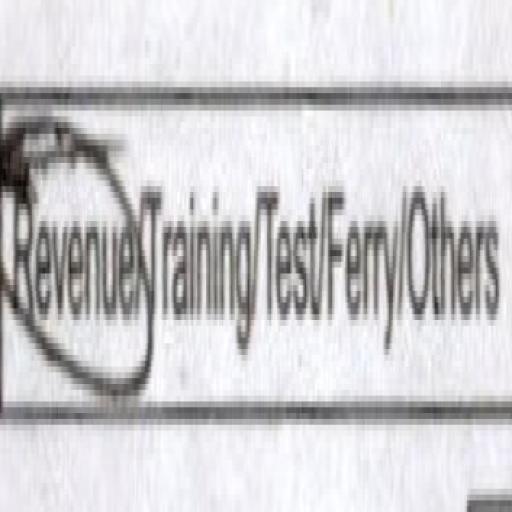check: (0, 47, 148, 512)
